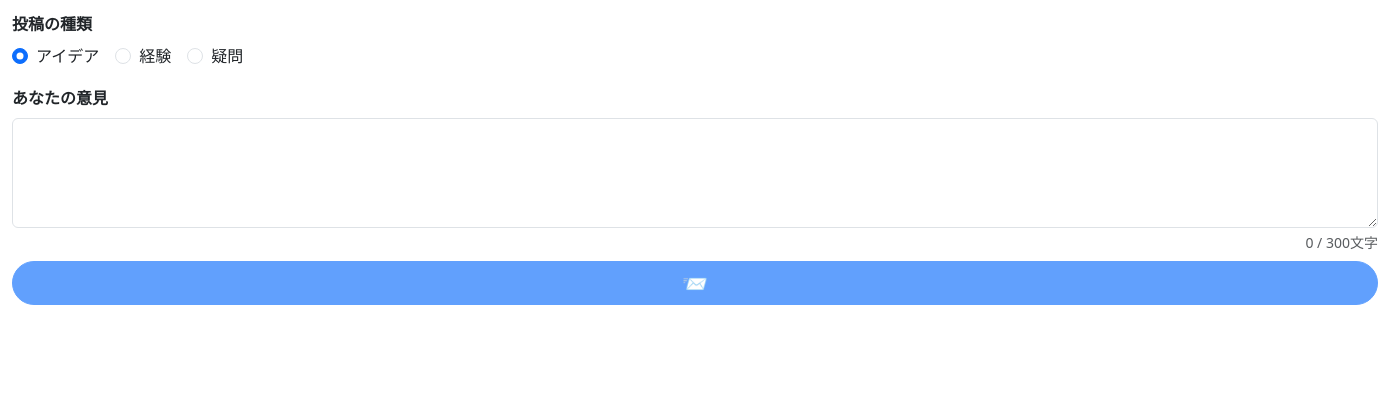
it: 投稿フォーム › 成功後の次の投稿は、新しい送信IDを使う
This screenshot has width=1390, height=396.
Type "一つ目" into the text box labelled "あなたの意見" at (695, 173), box [12, 118, 1378, 228]
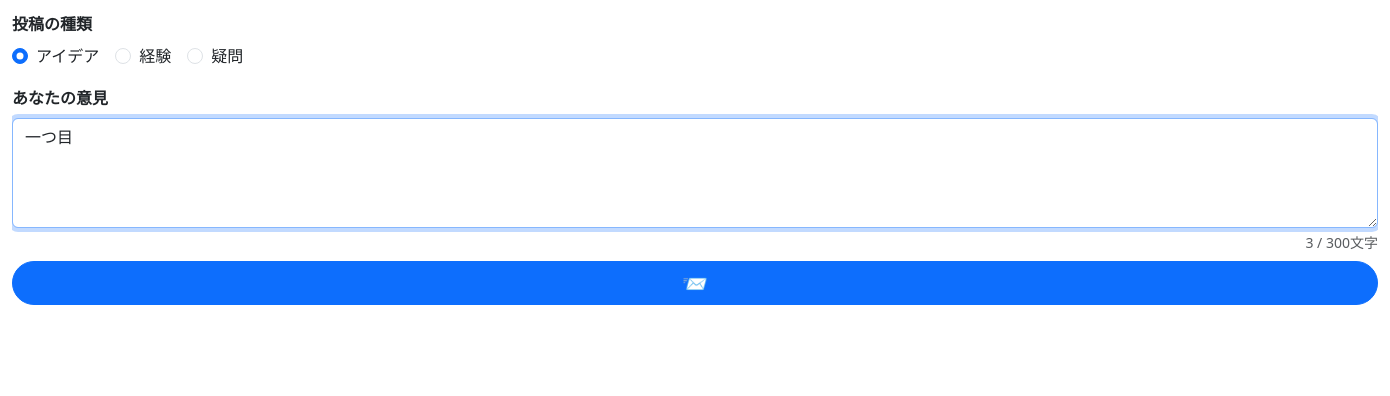
Click the button named "投稿する" at (695, 283), box [12, 261, 1378, 305]
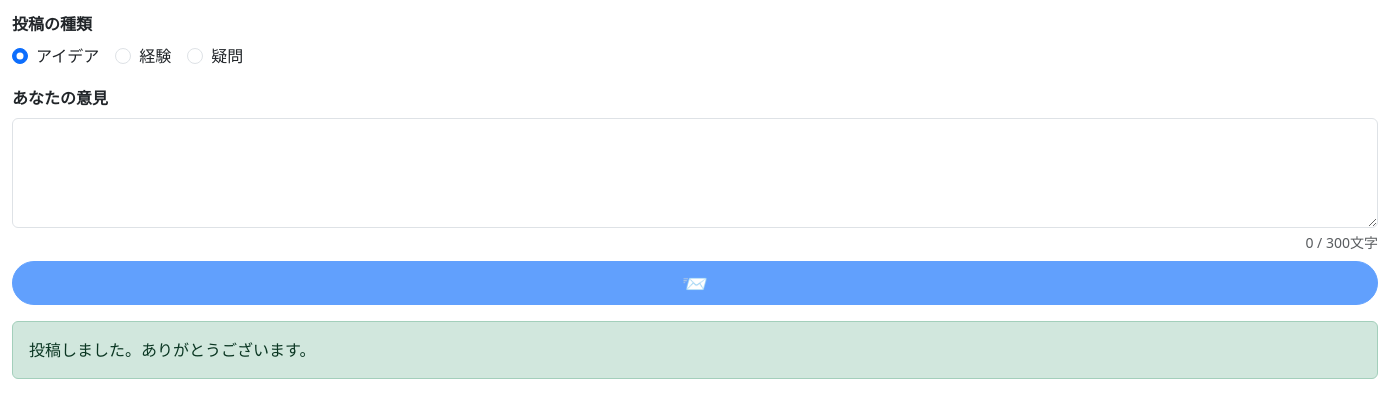
Expected: the text "投稿しました。ありがとうございます。" is shown, [12, 321, 1378, 379]
Type "二つ目" into the text box labelled "あなたの意見" at (695, 173), box [12, 118, 1378, 228]
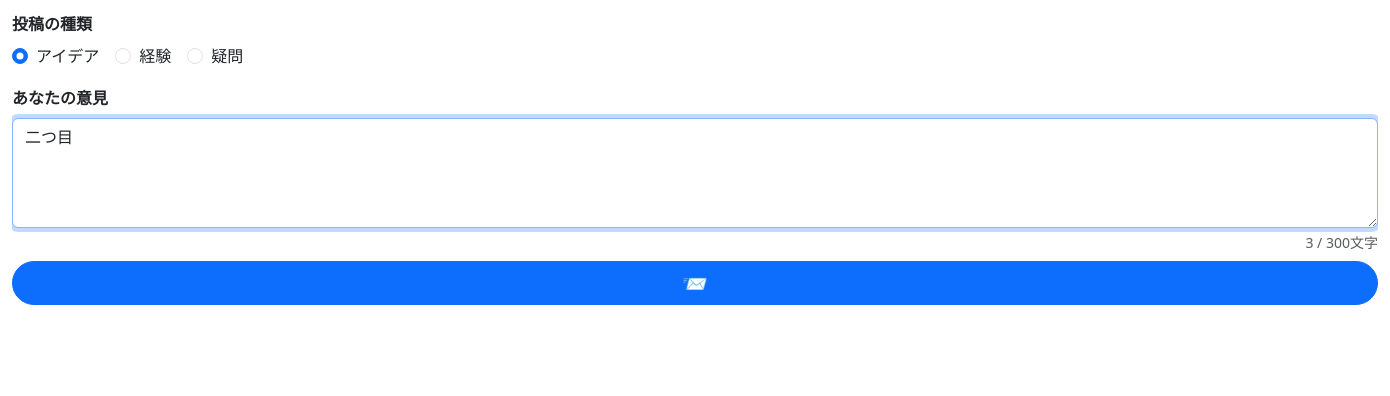
Click the button named "投稿する" at (695, 283), box [12, 261, 1378, 305]
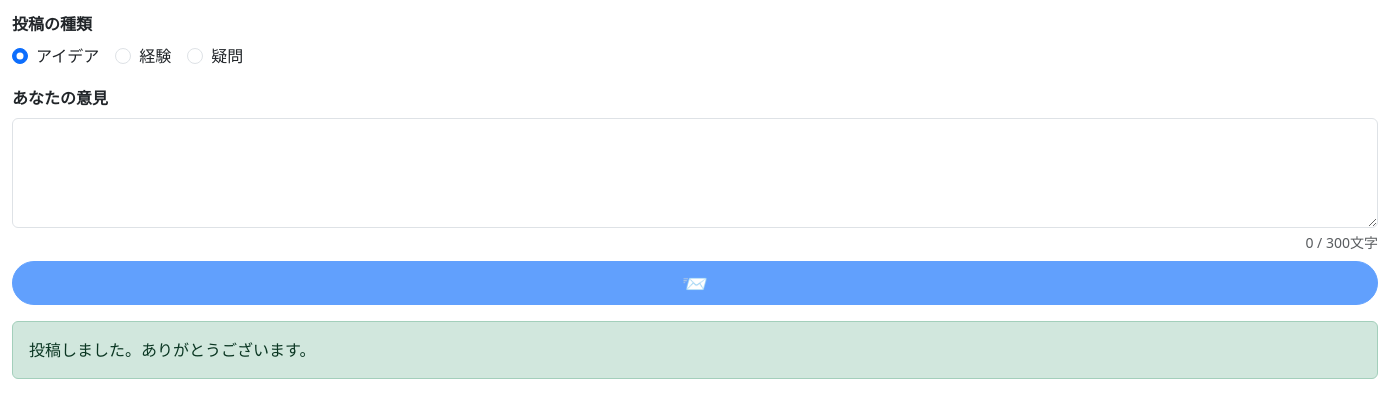
Expected: the text "投稿しました。ありがとうございます。" is shown, [12, 321, 1378, 379]
